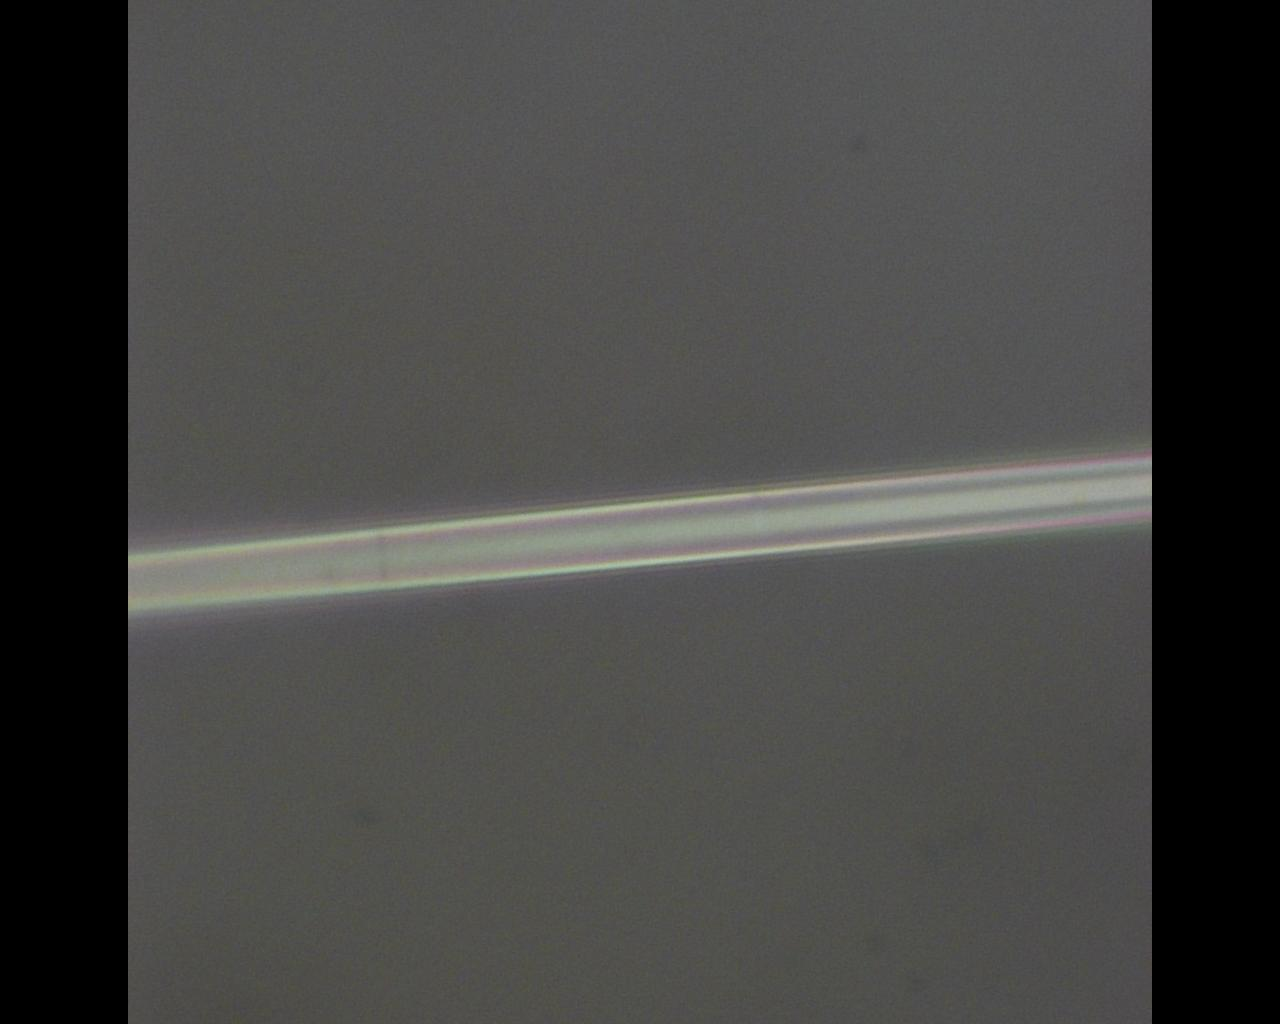fiber: (127, 445, 1151, 616)
